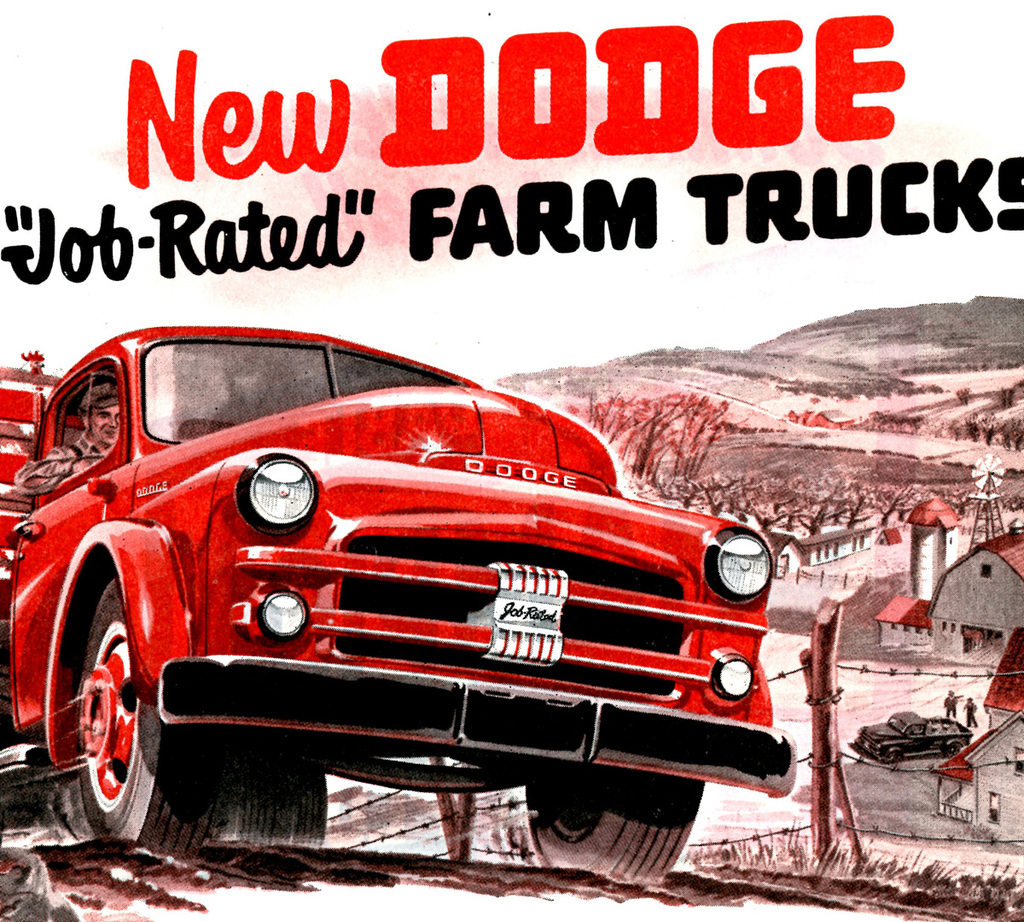Car: (0, 306, 772, 874)
